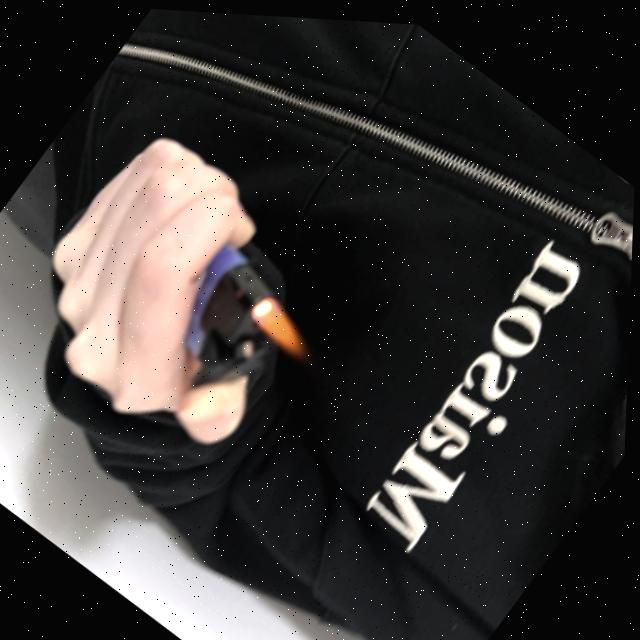Fire: (241, 284, 331, 365)
